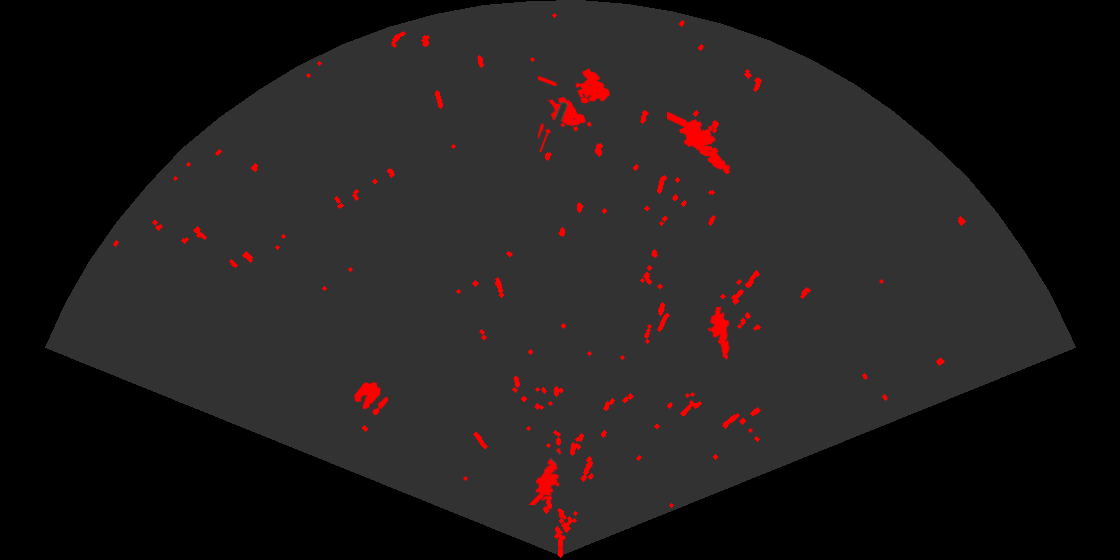ball: (353, 381, 390, 417)
cage: (538, 67, 612, 152)
frogman: (667, 110, 732, 176), (527, 446, 563, 505), (706, 307, 731, 360)
